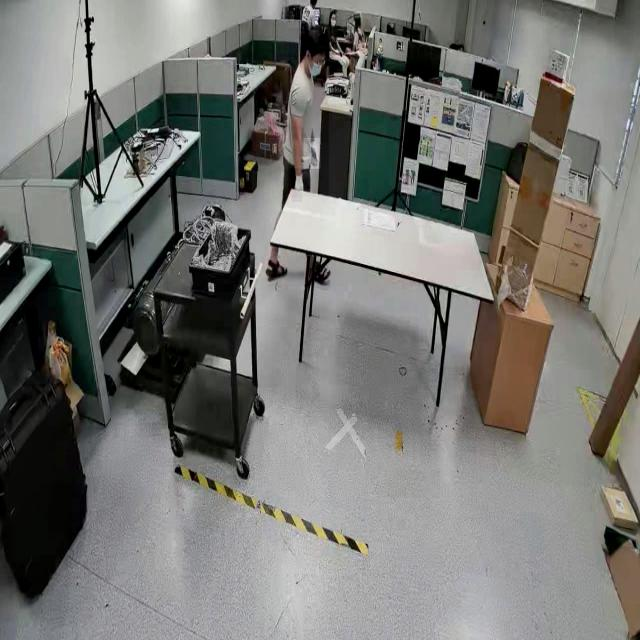face_mask: (306, 48, 324, 82)
hand_glove: (303, 138, 321, 170), (291, 168, 302, 203)
head_nohelmet: (304, 27, 330, 47), (354, 12, 362, 18), (330, 10, 338, 14)
person: (288, 29, 329, 198)
